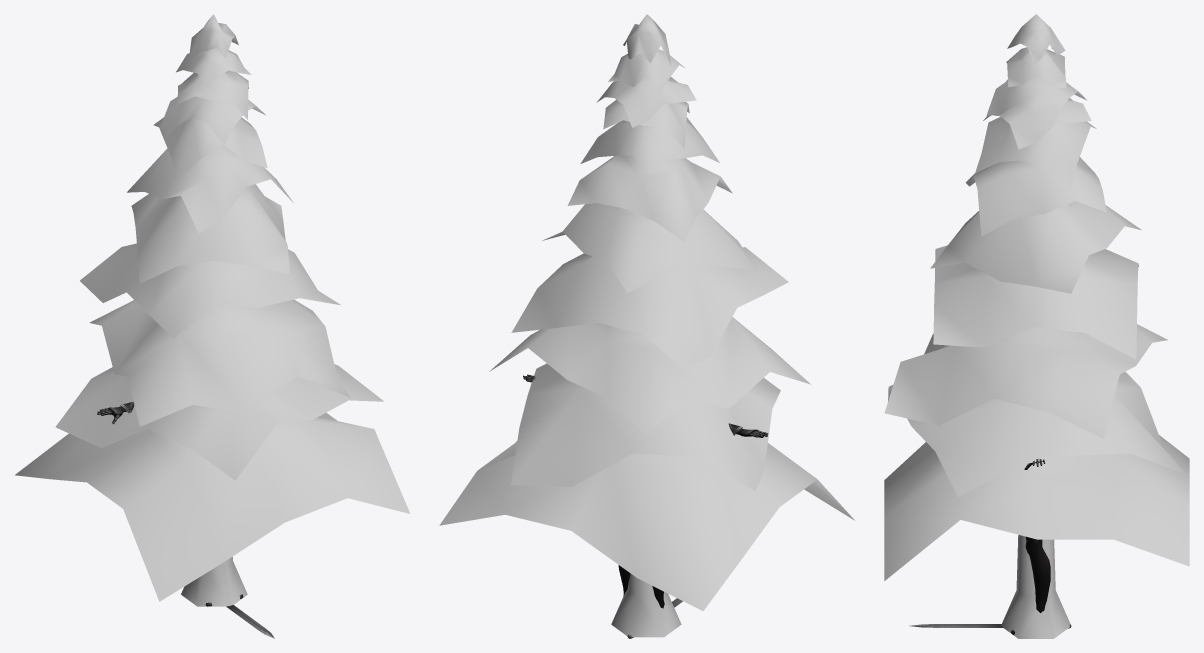
The model's file is pine2.obj.
3 views of the same model, side by side, from view 1: azimuth 30°, elevation 25°; view 2: azimuth 150°, elevation 25°; view 3: azimuth 270°, elevation 25° (orthographic). The views are drawn at different scales.
Visible parts, largest first — view 1: Grid; view 2: Grid, Plane002_Untitled.002; view 3: Grid, Plane002_Untitled.002.
Part boxes in pixels (left/top/right/bottom): Grid: left=15, top=14, right=410, bottom=606; Grid: left=439, top=14, right=854, bottom=637; Plane002_Untitled.002: left=523, top=374, right=768, bottom=608; Grid: left=884, top=14, right=1189, bottom=638; Plane002_Untitled.002: left=1011, top=459, right=1050, bottom=634.
Size of the model in its own units: 1.86 by 3.92 by 1.77.
Materials: 4 (3 with a texture image).
